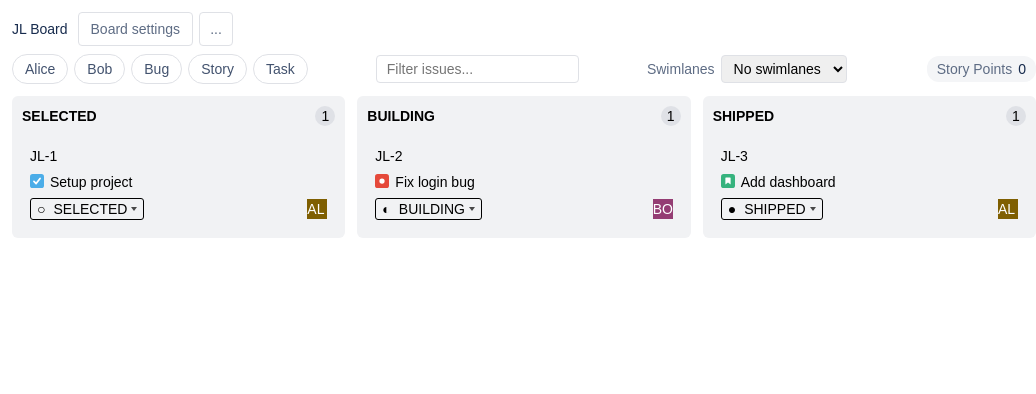
Test: JL-309 — board grouping uses the project workflow statuses › exposes the project statuses in the per-card status menu
Expected: the element with class "kanban-col" that starts with "Selected" is shown, [12,96,345,238]
Click the button with aria-label "Status for JL-1:". click: (87, 209)
box: [30,198,144,220]
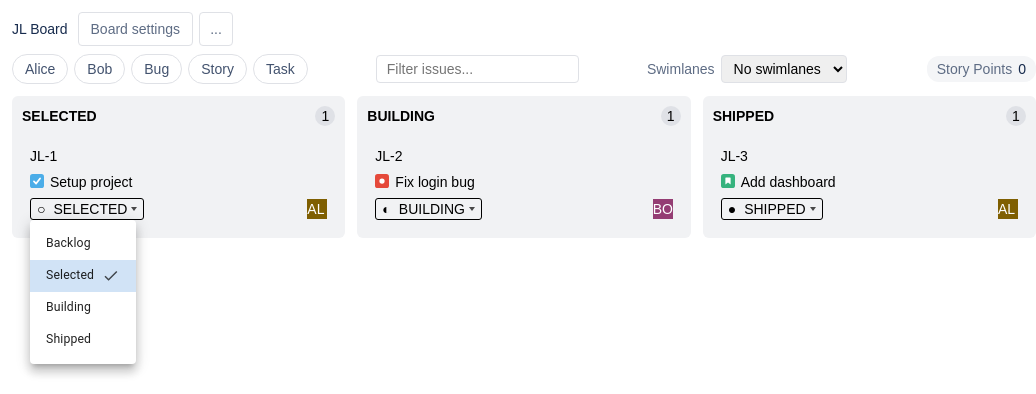
Expected: the menu item "Building" is shown, [46,300,91,314]
Expected: the menu item "Shipped" is shown, [46,332,91,346]
